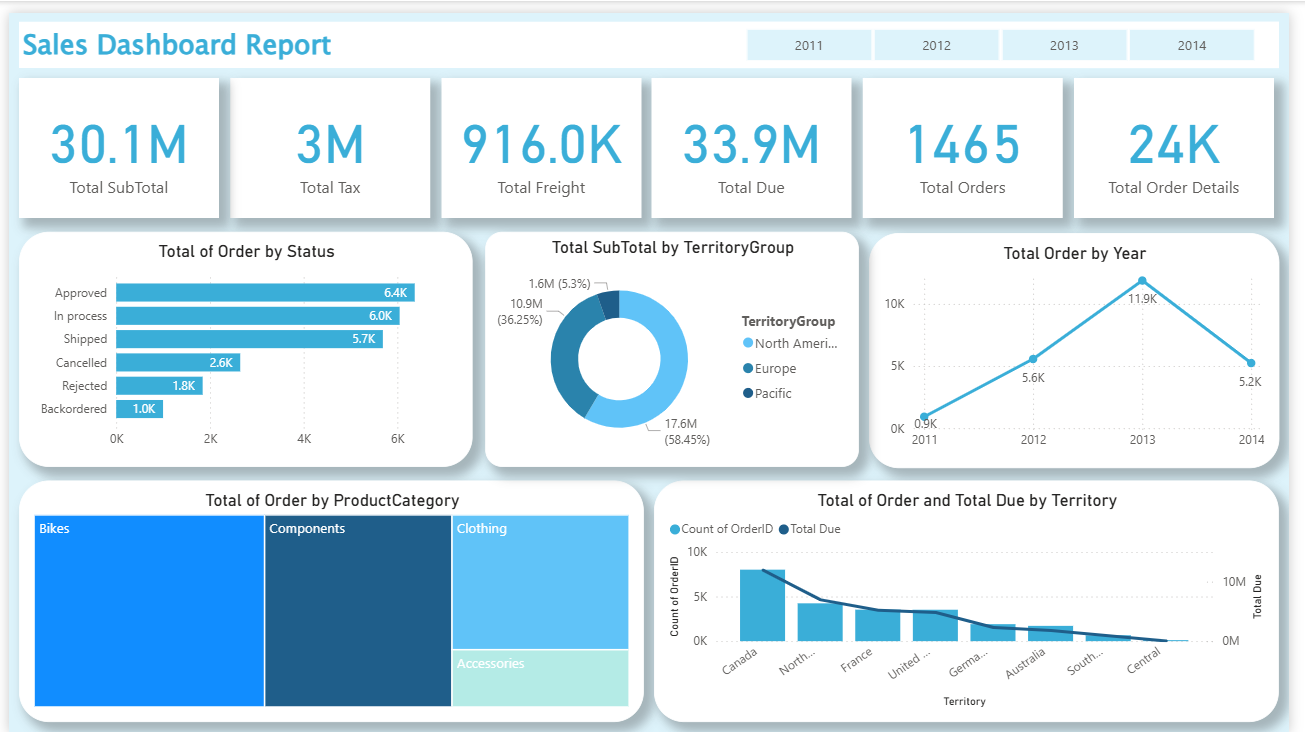

What the dashboard file says about the page in this screenshot:
{"tool":"powerbi","page":{"name":"Page 1","canvas":[1280,720],"ordinal":0},"visuals":[{"type":"shape","box":[10,8.8,1260,46.2],"z":0},{"type":"card","fields":{"Values":["SalesFact.Total Tax"]},"box":[221,64.7,200,140],"z":1000},{"type":"card","fields":{"Values":["SalesFact.Total Freight"]},"box":[432,64.7,200,140],"z":2000},{"type":"card","fields":{"Values":["SalesFact.Total Due"]},"box":[643,64.7,200,140],"z":3000},{"type":"card","fields":{"Values":["SalesFact.Total SubTotal"]},"box":[10,65,200,140],"z":4000},{"type":"card","fields":{"Values":["SalesFact.Total Orders"]},"box":[854,64.7,200,140],"z":5000},{"type":"card","fields":{"Values":["SalesFact.Total Order Details"]},"box":[1065,64.7,200,140],"z":6000},{"type":"lineChart","title":"Total Order by Year","fields":{"Category":["DateDim.OrderDate.Variation.Date Hierarchy.Year","DateDim.OrderDate.Variation.Date Hierarchy.Quarter","DateDim.OrderDate.Variation.Date Hierarchy.Month","DateDim.OrderDate.Variation.Date Hierarchy.Day"],"Y":["CountNonNull(SalesFact.OrderID)"]},"box":[860,220,410,235],"z":7000},{"type":"barChart","fields":{"Category":["StatusDim.Status"],"Y":["CountNonNull(SalesFact.OrderID)"]},"box":[10,218.8,453.8,235],"z":8000},{"type":"treemap","fields":{"Group":["ProductDim.ProductCategory Hierarchy.ProductCategory","ProductDim.ProductCategory Hierarchy.ProductSubCategory","ProductDim.ProductCategory Hierarchy.Product"],"Values":["CountNonNull(SalesFact.OrderID)"]},"box":[10,467.5,625,241.2],"z":9000},{"type":"lineStackedColumnComboChart","title":"Total of Order and Total Due by Territory","fields":{"Category":["TerritoryDim.Territory"],"Y":["CountNonNull(SalesFact.OrderID)"],"Y2":["SalesFact.Total Due"]},"box":[645,467.5,625,241.2],"z":10000},{"type":"donutChart","fields":{"Y":["SalesFact.Total SubTotal"],"Category":["TerritoryDim.TerritoryGroup"]},"box":[476.2,218.8,373.8,235],"z":11000},{"type":"slicer","fields":{"Values":["DateDim.OrderDate.Variation.Date Hierarchy.Year"]},"box":[711.2,8.8,558.8,46.2],"z":12000}]}

Visuals, with their boxes in screenshot pixels (x1, y1, x2, y2), scaled from the page's 1280x720 canvas onto the 1305x732 screenshot:
shape: locate(10, 9, 1295, 56)
card - SalesFact.Total Tax: locate(225, 66, 429, 208)
card - SalesFact.Total Freight: locate(440, 66, 644, 208)
card - SalesFact.Total Due: locate(656, 66, 859, 208)
card - SalesFact.Total SubTotal: locate(10, 66, 214, 208)
card - SalesFact.Total Orders: locate(871, 66, 1075, 208)
card - SalesFact.Total Order Details: locate(1086, 66, 1290, 208)
"Total Order by Year" lineChart: locate(877, 224, 1295, 463)
barChart - StatusDim.Status x CountNonNull(SalesFact.OrderID): locate(10, 222, 473, 461)
treemap - ProductDim.ProductCategory Hierarchy.ProductCategory x ProductDim.ProductCategory Hierarchy.ProductSubCategory: locate(10, 475, 647, 721)
"Total of Order and Total Due by Territory" lineStackedColumnComboChart: locate(658, 475, 1295, 721)
donutChart - SalesFact.Total SubTotal x TerritoryDim.TerritoryGroup: locate(486, 222, 867, 461)
slicer - DateDim.OrderDate.Variation.Date Hierarchy.Year: locate(725, 9, 1295, 56)
